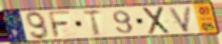9: (24, 11, 51, 41), (112, 10, 134, 35)
F: (46, 10, 73, 39)
T: (82, 8, 103, 37)
V: (167, 5, 194, 34)
X: (142, 6, 172, 36)
